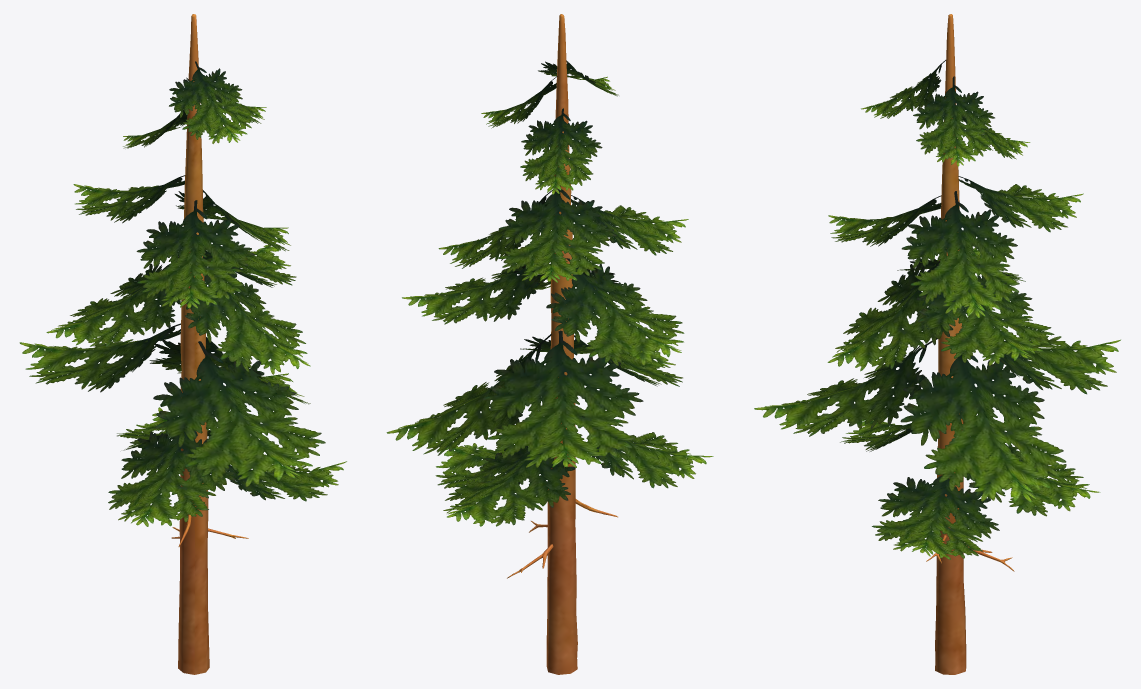
Rendered from Pine model  A (8).glb.
The picture shows the model from 3 angles, left to right: view 1: azimuth 30°, elevation 25°; view 2: azimuth 150°, elevation 25°; view 3: azimuth 270°, elevation 25°; orthographic projection.
Parts seen in each view (by area): view 1: small_stylized_pine_var3_m_leaves_0, small_stylized_pine_var3_m_trunk_0; view 2: small_stylized_pine_var3_m_leaves_0, small_stylized_pine_var3_m_trunk_0; view 3: small_stylized_pine_var3_m_leaves_0, small_stylized_pine_var3_m_trunk_0.
Part boxes in pixels (x1,y1,x2,y2): small_stylized_pine_var3_m_leaves_0: (19,61,346,526); small_stylized_pine_var3_m_trunk_0: (171,14,248,674); small_stylized_pine_var3_m_leaves_0: (386,60,713,526); small_stylized_pine_var3_m_trunk_0: (507,14,617,674); small_stylized_pine_var3_m_leaves_0: (754,60,1120,559); small_stylized_pine_var3_m_trunk_0: (926,14,1014,674).
Size of the model in its own units: 375 by 832 by 437.
2 materials, 2 textured.
